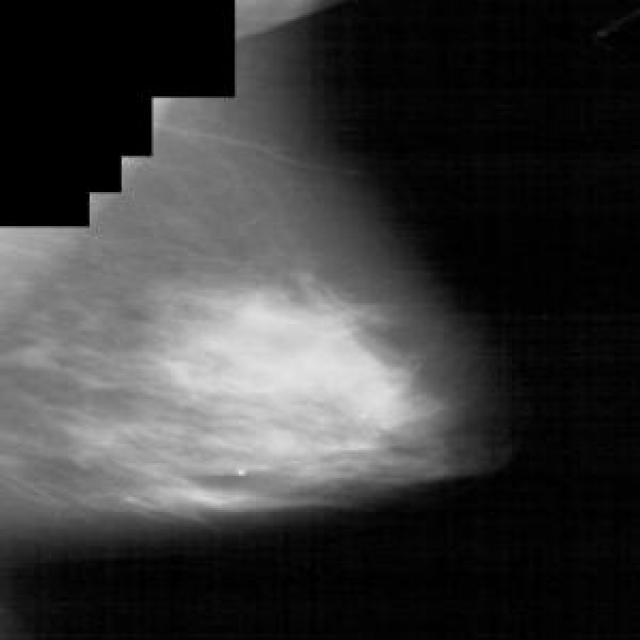tumor: (146, 274, 419, 488)
